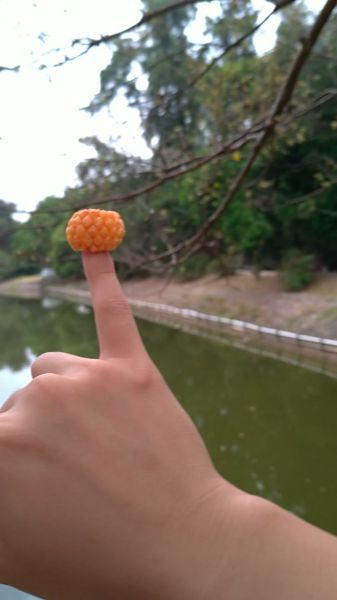eggs: (64, 209, 125, 254)
